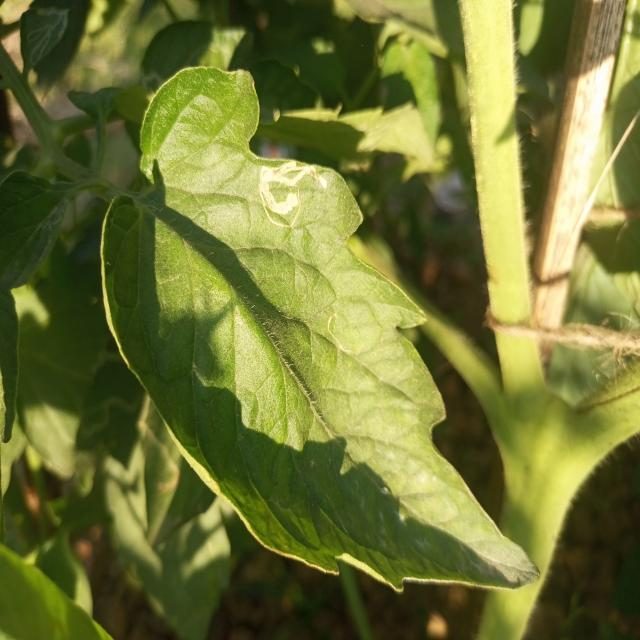Tuta absoluta: (243, 142, 331, 227)
